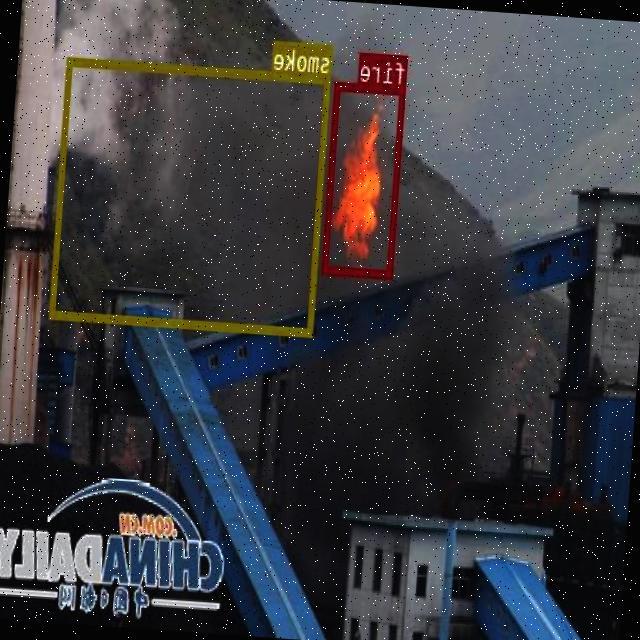fire: (324, 81, 406, 278)
smoke: (50, 55, 331, 336)
